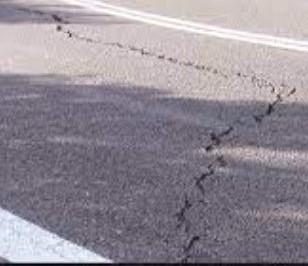crack: (10, 5, 281, 95), (164, 98, 283, 261)
